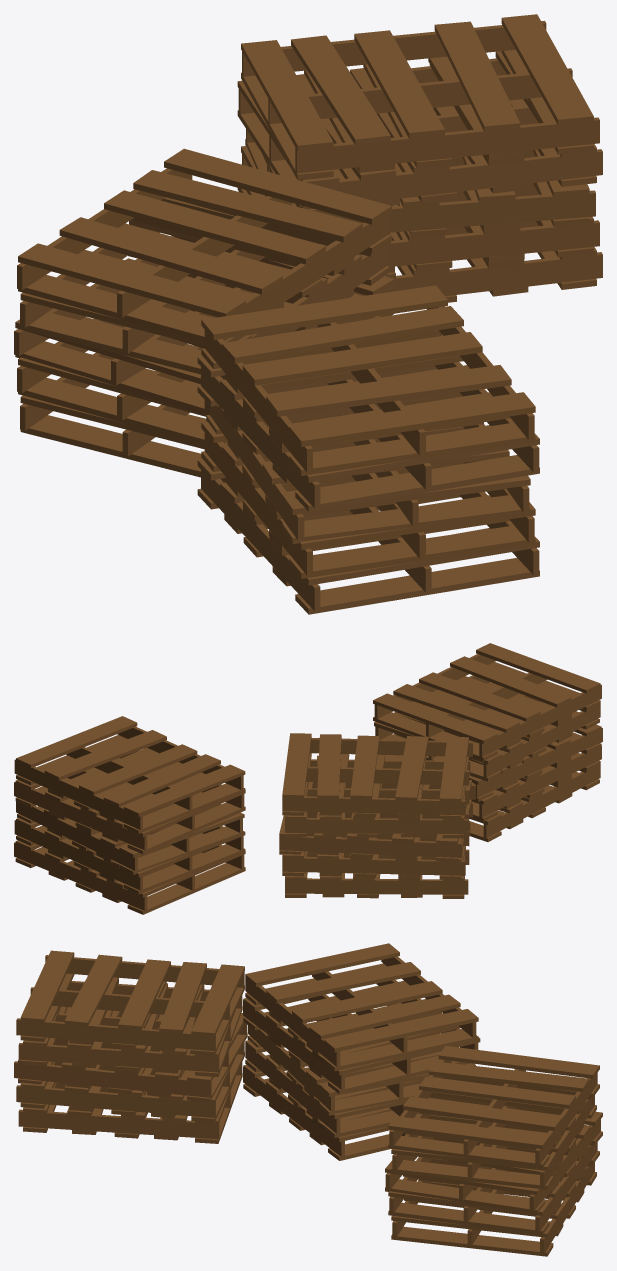
File: Wooden_Plate-1_001.fbx
3 views of the same model, one above another, from view 1: azimuth 30°, elevation 25°; view 2: azimuth 150°, elevation 25°; view 3: azimuth 270°, elevation 25° (orthographic). The views are drawn at different scales.
Parts seen in each view (by area): view 1: Wooden Plate-2; view 2: Wooden Plate-2; view 3: Wooden Plate-2.
Boxes of the visible parts, x1,y1,x2,y2 form: Wooden Plate-2: [14, 14, 602, 614]; Wooden Plate-2: [14, 643, 602, 914]; Wooden Plate-2: [14, 943, 602, 1256].
Size of the model in its own units: 3.94 by 0.9981 by 4.75.
